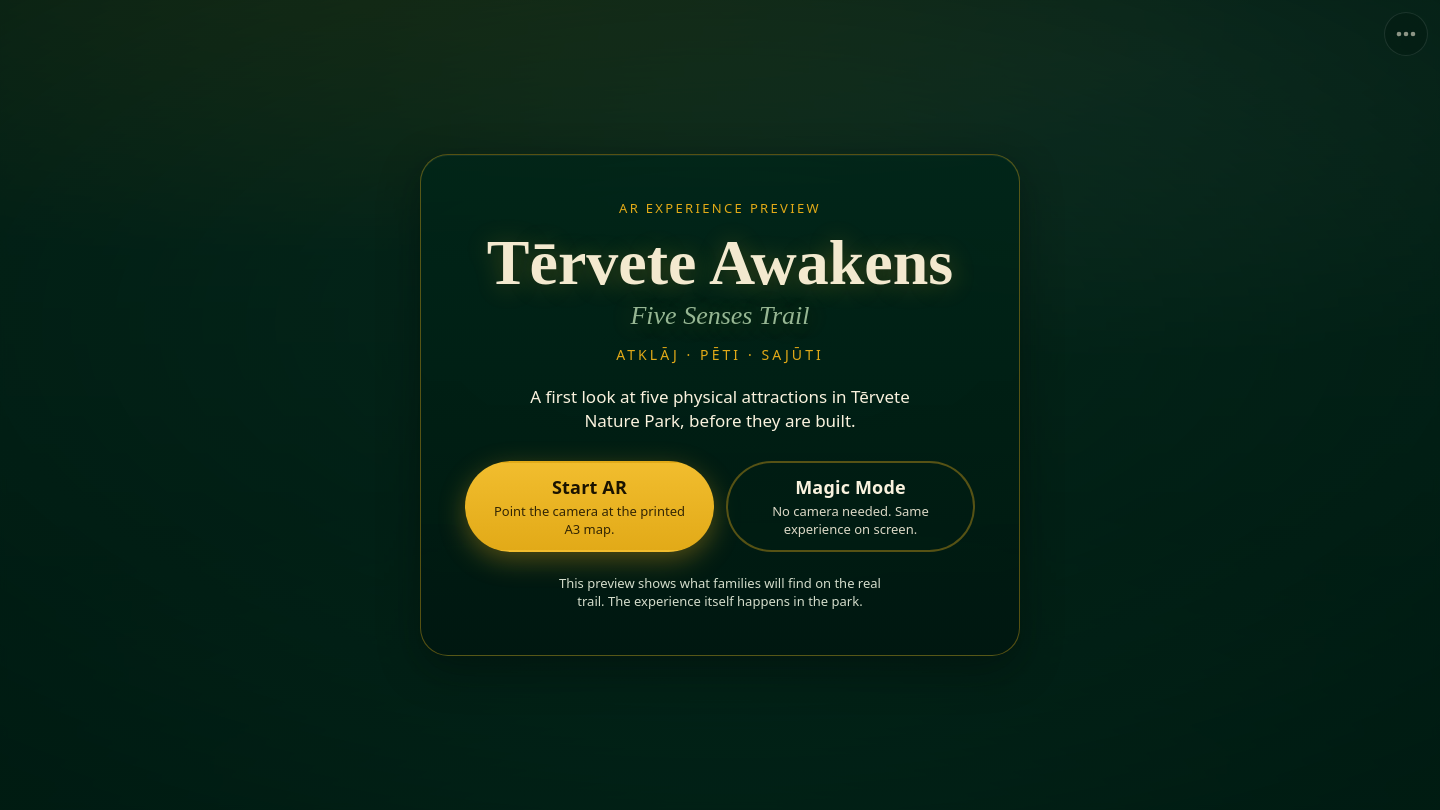
Test case: AR mode and its fallbacks › Start AR waits for the map, then opens it in AR mode
Later steps or results of the test are not shown.
Click the button "Start AR Point the camera at the printed A3 map." at (590, 506), box [465, 461, 714, 552]
Wait 50 ms
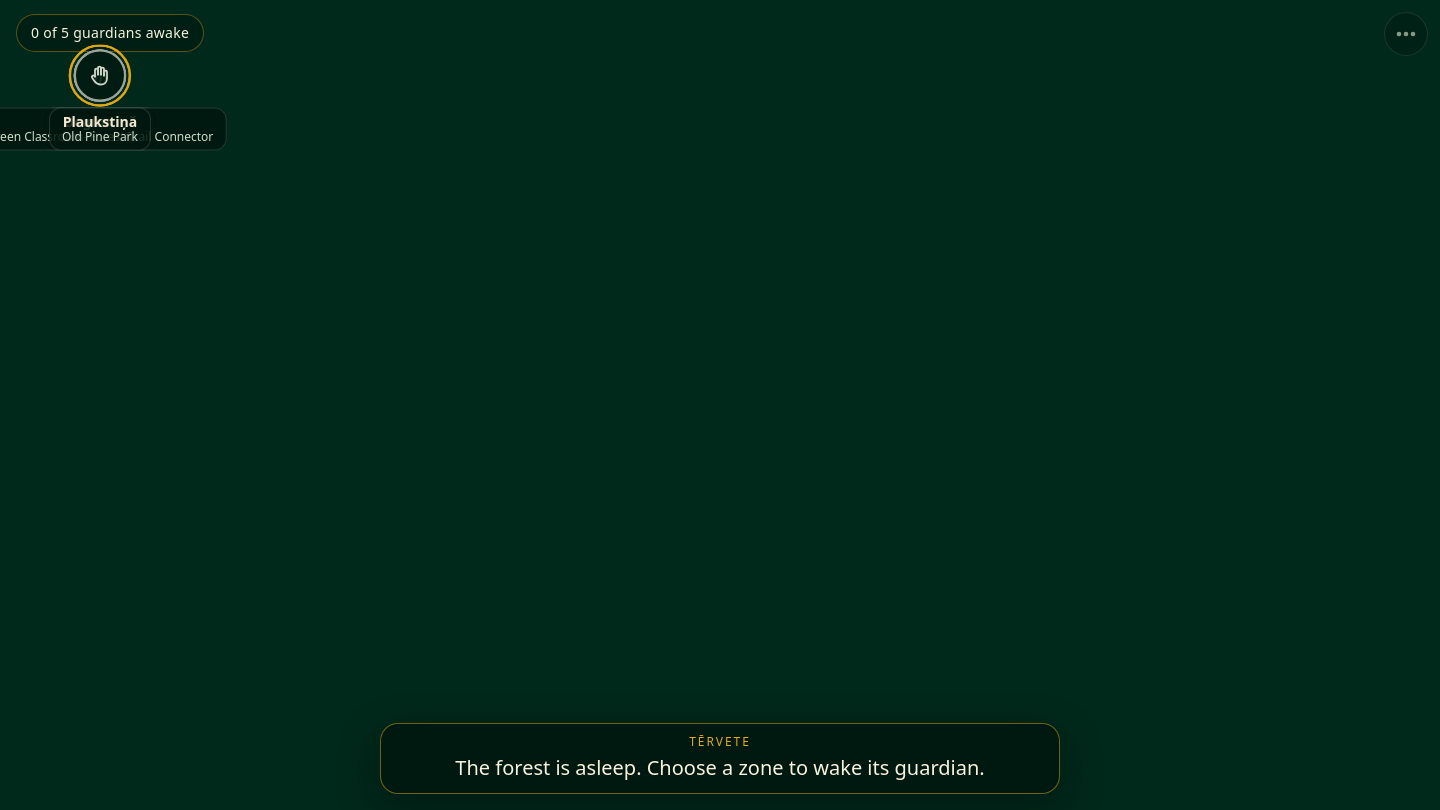
Expected: the text "0 of 5 guardians awake" is shown, [16, 14, 204, 52]
Press p
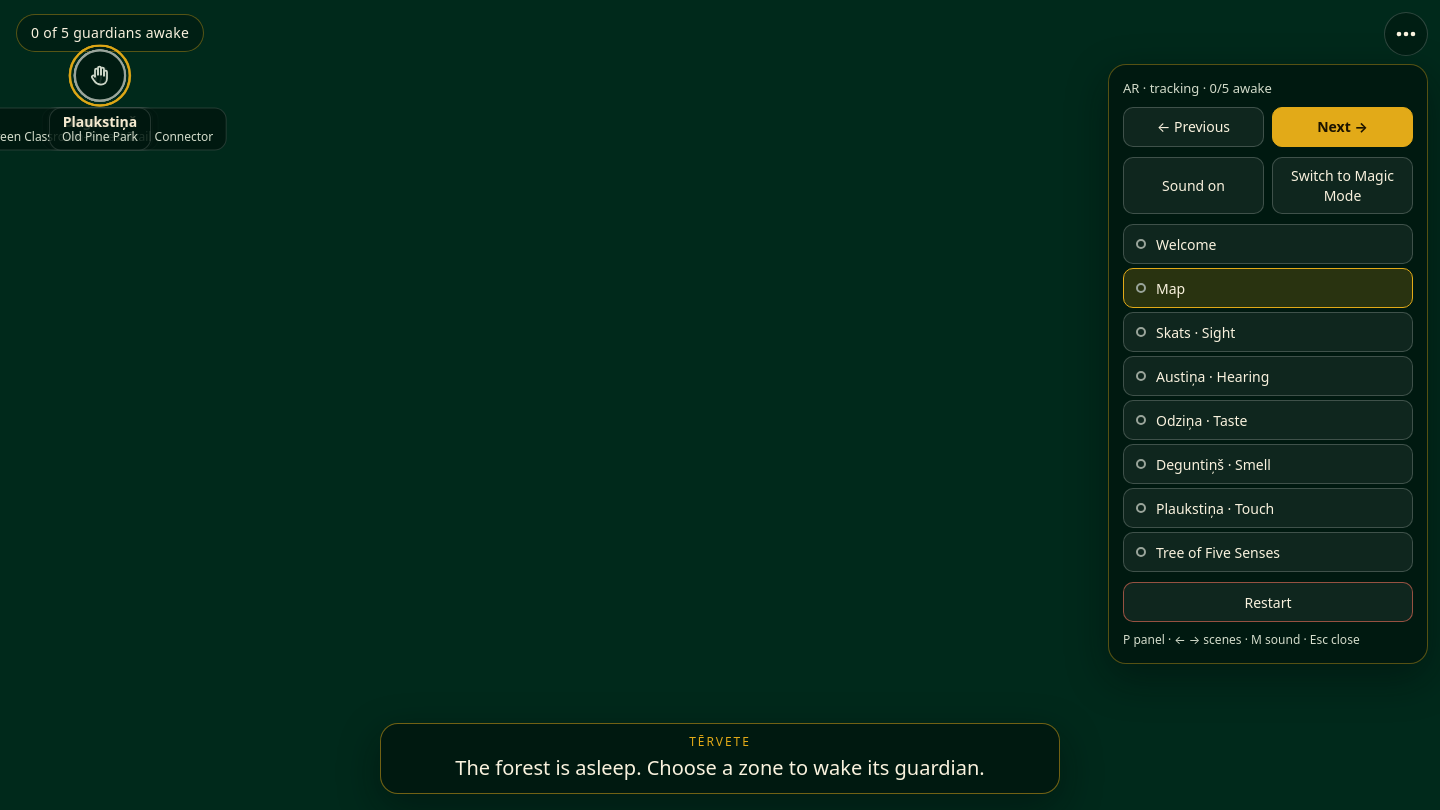
Expected: the text "AR · tracking · 0/5 awake" is shown, [1123, 79, 1272, 97]
